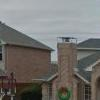Chimney: (48, 28, 82, 90)
